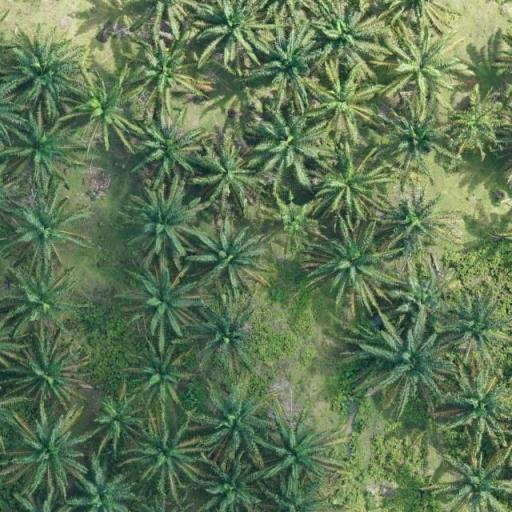Ganoderma: (396, 43, 448, 92), (318, 78, 368, 124), (82, 82, 130, 127), (142, 51, 190, 96), (456, 102, 498, 144), (274, 198, 314, 238)
